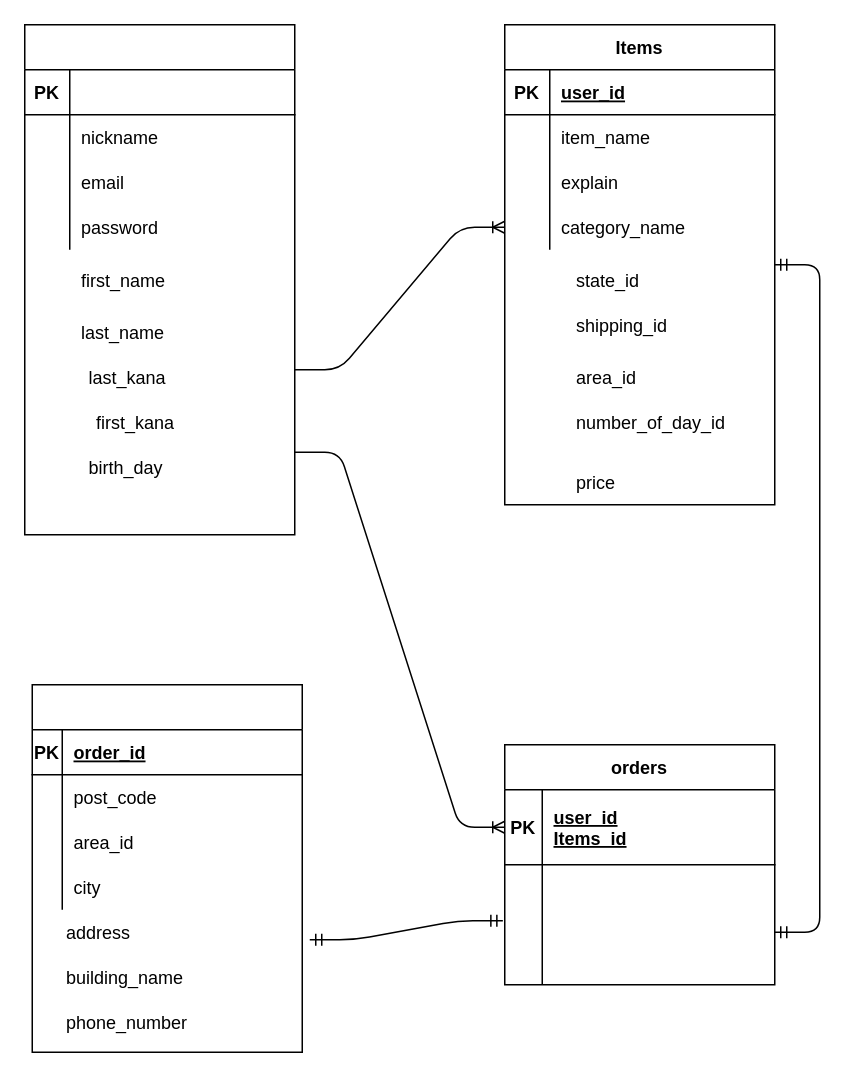
Image size: 845x1077. Some labels were removed from this diagram. Here are the shapes that lost their labels. From the top down, the box of each, then its label:
(23, 23, 295, 535): Users
(31, 683, 302, 1052): addresses
